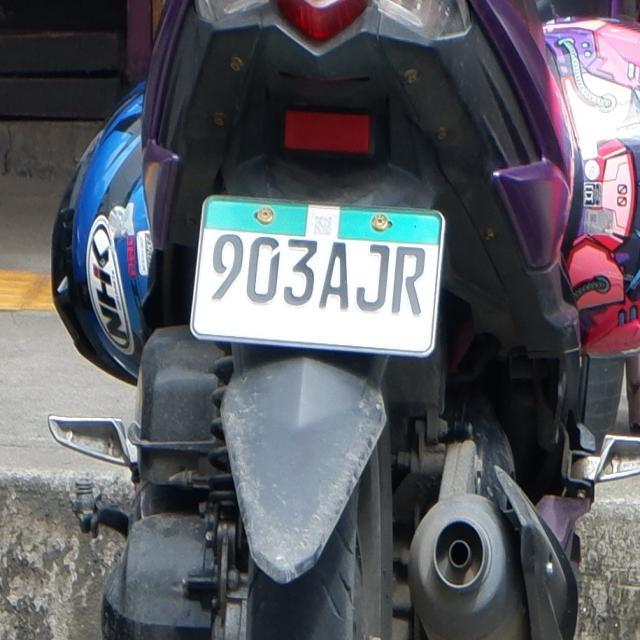LicensePlate: (193, 193, 447, 357)
